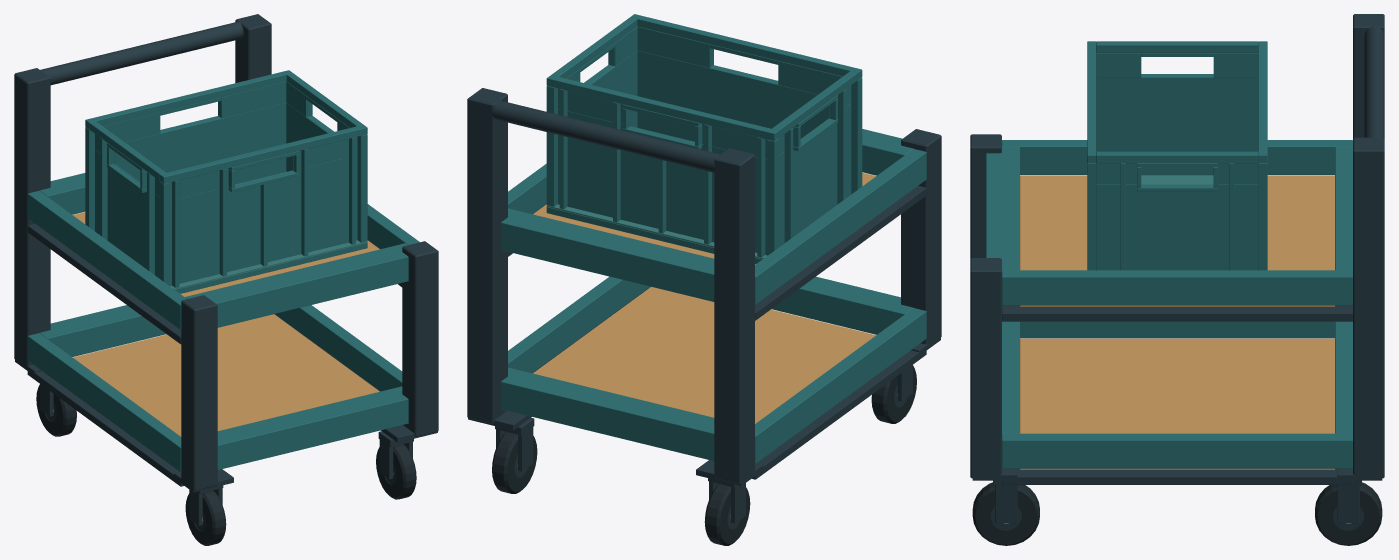
Rendered from picking-cart-tote-fixture.glb.
3 renders of one model, left to right at view 1: azimuth 30°, elevation 25°; view 2: azimuth 150°, elevation 25°; view 3: azimuth 270°, elevation 25°, orthographic. The views are drawn at different scales.
Parts seen in each view (by area): view 1: picking-cart-tote-fixture__batch_00, picking-cart-tote-fixture__batch_20, picking-cart-tote-fixture__batch_03, picking-cart-tote-fixture__batch_02, picking-cart-tote-fixture__batch_06, picking-cart-tote-fixture__batch_10, picking-cart-tote-fixture__batch_14, picking-cart-tote-fixture__batch_01, picking-cart-tote-fixture__batch_08, picking-cart-tote-fixture__batch_04; view 2: picking-cart-tote-fixture__batch_00, picking-cart-tote-fixture__batch_20, picking-cart-tote-fixture__batch_03, picking-cart-tote-fixture__batch_02, picking-cart-tote-fixture__batch_18, picking-cart-tote-fixture__batch_14, picking-cart-tote-fixture__batch_06, picking-cart-tote-fixture__batch_16, picking-cart-tote-fixture__batch_01, picking-cart-tote-fixture__batch_12; view 3: picking-cart-tote-fixture__batch_20, picking-cart-tote-fixture__batch_02, picking-cart-tote-fixture__batch_00, picking-cart-tote-fixture__batch_03, picking-cart-tote-fixture__batch_10, picking-cart-tote-fixture__batch_18, picking-cart-tote-fixture__batch_08, picking-cart-tote-fixture__batch_16, picking-cart-tote-fixture__batch_01.
Boxes of the visible parts, x1,y1,x2,y2 form: picking-cart-tote-fixture__batch_00: (85, 70, 367, 293); picking-cart-tote-fixture__batch_20: (27, 173, 419, 472); picking-cart-tote-fixture__batch_03: (14, 14, 438, 492); picking-cart-tote-fixture__batch_02: (73, 212, 379, 436); picking-cart-tote-fixture__batch_06: (185, 490, 226, 545); picking-cart-tote-fixture__batch_10: (376, 444, 416, 499); picking-cart-tote-fixture__batch_14: (36, 384, 76, 436); picking-cart-tote-fixture__batch_01: (170, 240, 367, 289); picking-cart-tote-fixture__batch_08: (378, 431, 413, 479); picking-cart-tote-fixture__batch_04: (189, 485, 223, 525); picking-cart-tote-fixture__batch_00: (546, 14, 862, 263); picking-cart-tote-fixture__batch_20: (501, 129, 926, 463); picking-cart-tote-fixture__batch_03: (467, 88, 941, 485); picking-cart-tote-fixture__batch_02: (533, 172, 876, 423); picking-cart-tote-fixture__batch_18: (492, 432, 537, 493); picking-cart-tote-fixture__batch_14: (704, 484, 750, 545); picking-cart-tote-fixture__batch_06: (871, 365, 916, 423); picking-cart-tote-fixture__batch_16: (495, 417, 534, 471); picking-cart-tote-fixture__batch_01: (546, 204, 767, 259); picking-cart-tote-fixture__batch_12: (708, 478, 745, 523); picking-cart-tote-fixture__batch_20: (986, 140, 1352, 468); picking-cart-tote-fixture__batch_02: (1020, 175, 1334, 469); picking-cart-tote-fixture__batch_00: (1087, 41, 1267, 270); picking-cart-tote-fixture__batch_03: (970, 14, 1384, 484); picking-cart-tote-fixture__batch_10: (972, 482, 1039, 545); picking-cart-tote-fixture__batch_18: (1315, 482, 1382, 545); picking-cart-tote-fixture__batch_08: (993, 480, 1019, 523); picking-cart-tote-fixture__batch_16: (1335, 480, 1361, 523); picking-cart-tote-fixture__batch_01: (1141, 175, 1213, 184).
Size of the model in its own units: 0.72 by 1 by 0.92.
